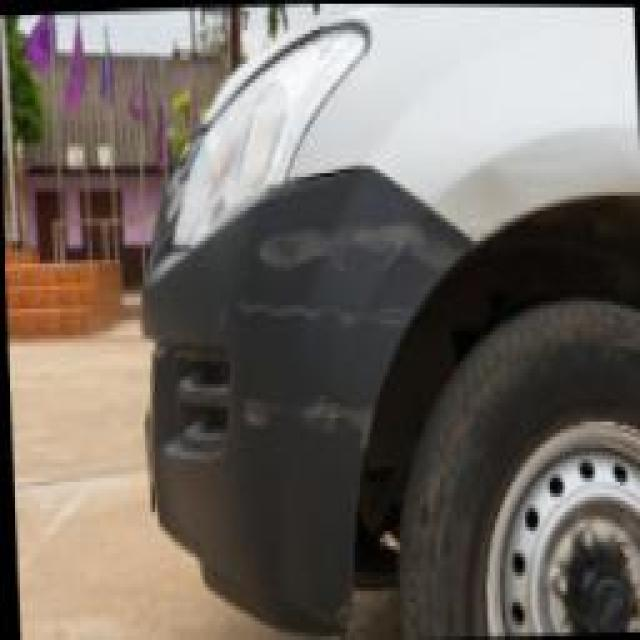Bumper: (191, 172, 469, 475)
